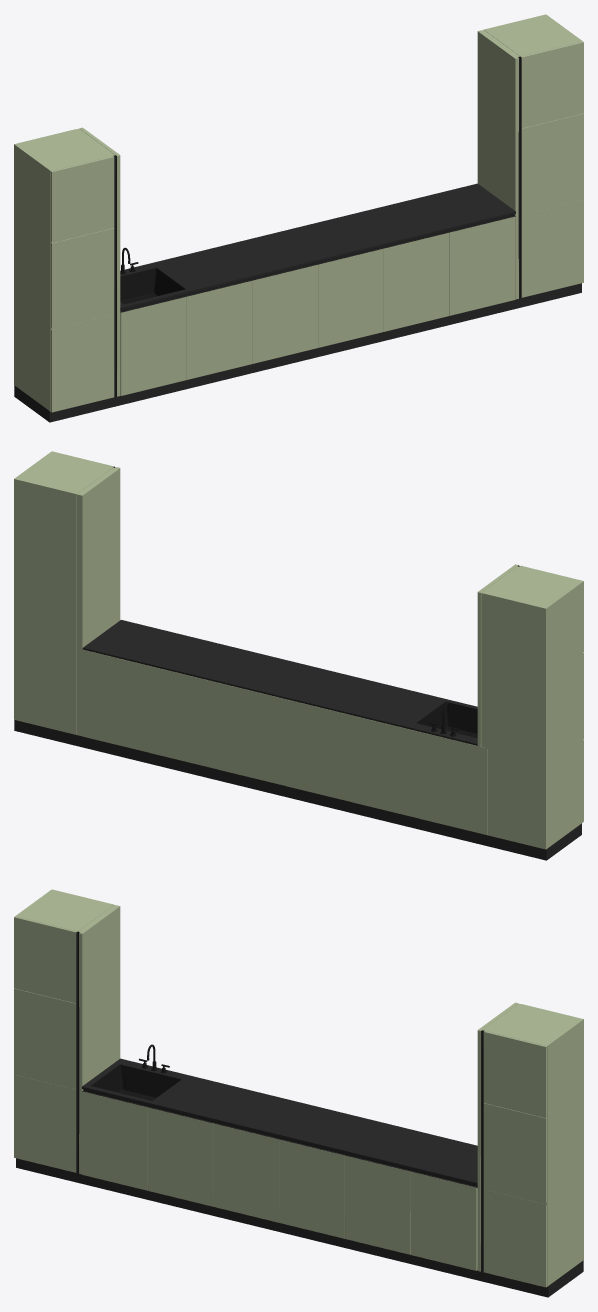
Rendered from Kuhnya_0000.glb.
3 views of the same model, one above another, from view 1: azimuth 30°, elevation 25°; view 2: azimuth 150°, elevation 25°; view 3: azimuth 330°, elevation 25° (orthographic).
Visible parts, largest first — view 1: Line110, Group002, Box8449, Group005, Group003, Group004, Line108, Group010, Object411, Group011, Group007, Group008 (+6 smaller); view 2: Box8449, Box8439, Line110, Group002, Line108, Box8454, Box8453, Box8444, Box8451, Box8452, Box8455, Group004 (+1 smaller); view 3: Line110, Group004, Box8439, Group003, Group005, Group002, Line108, Group011, Group008, Group007, Group009, Object411 (+6 smaller).
Part boxes in pixels (x1,y1,x2,y2): Line110: (120,183,515,310); Group002: (477,30,583,299); Box8449: (14,129,112,411); Group005: (51,228,114,412); Group003: (521,113,583,297); Group004: (51,127,120,396); Line108: (14,283,581,422); Group010: (383,233,449,331); Object411: (120,297,186,395); Group011: (449,216,515,315); Group007: (186,281,252,379); Group008: (252,265,317,363); Box8449: (483,566,582,849); Box8439: (14,452,112,734); Line110: (82,620,477,745); Group002: (51,451,120,735); Line108: (14,720,581,860); Box8454: (352,715,420,818); Box8453: (285,699,352,802); Box8444: (82,649,149,752); Box8451: (150,666,217,769); Box8452: (217,682,284,785); Box8455: (420,732,487,835); Group004: (477,564,583,747); Line110: (82,1058,477,1185); Group004: (14,905,120,1174); Box8439: (485,1004,583,1286); Group003: (483,1103,546,1287); Group005: (14,988,76,1172); Group002: (477,1002,546,1271); Line108: (16,1158,583,1297); Group011: (410,1171,477,1270); Group008: (213,1123,279,1222); Group007: (148,1107,213,1206); Group009: (279,1139,344,1238); Object411: (82,1091,147,1190).
Bounding box in the file's own units: 4.86 × 2.2 × 0.6104.
